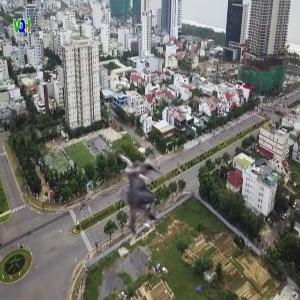drone: (79, 143, 186, 250)
